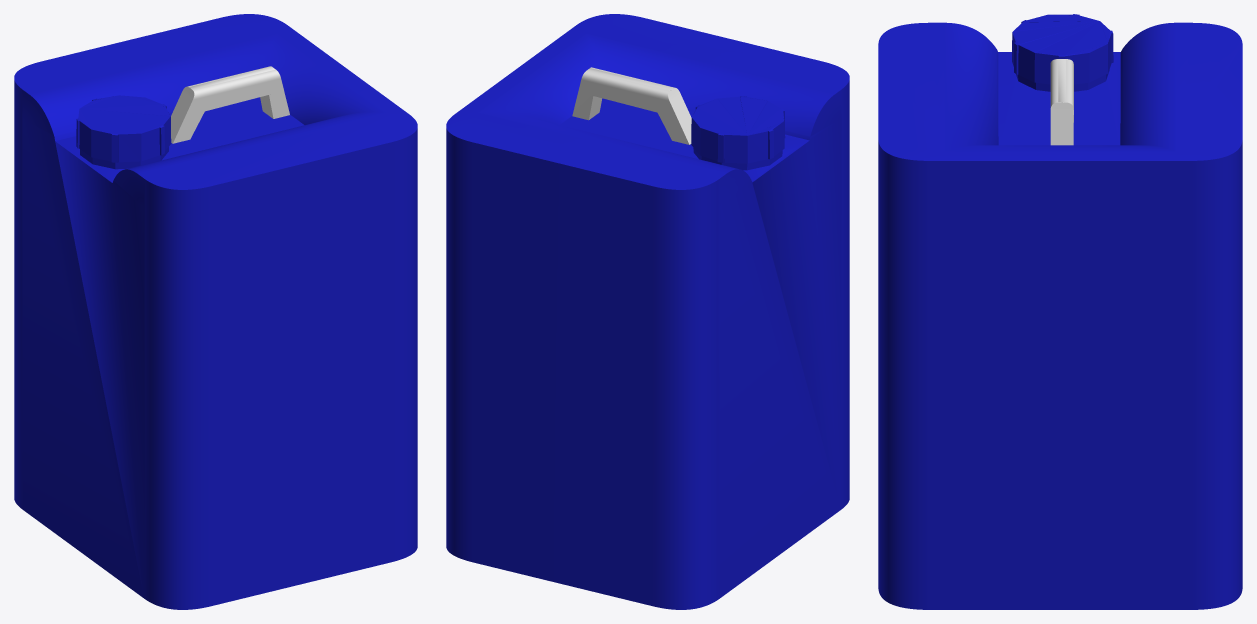
The model's file is 废液桶.fbx.
3 renders of one model, left to right at view 1: azimuth 30°, elevation 25°; view 2: azimuth 150°, elevation 25°; view 3: azimuth 270°, elevation 25°, orthographic. The views are drawn at different scales.
Parts seen in each view (by area): view 1: Box002, 对象001, NGon001; view 2: Box002, 对象001, NGon001; view 3: Box002, 对象001, NGon001.
Boxes of the visible parts, bbox=[...] form: Box002: bbox=[14, 14, 417, 609]; 对象001: bbox=[76, 95, 171, 162]; NGon001: bbox=[171, 66, 289, 143]; Box002: bbox=[446, 14, 849, 609]; 对象001: bbox=[691, 96, 785, 163]; NGon001: bbox=[572, 67, 691, 144]; Box002: bbox=[878, 22, 1242, 609]; 对象001: bbox=[1012, 14, 1113, 84]; NGon001: bbox=[1050, 59, 1073, 145].
Bounding box in the file's own units: 263 × 416 × 293.
